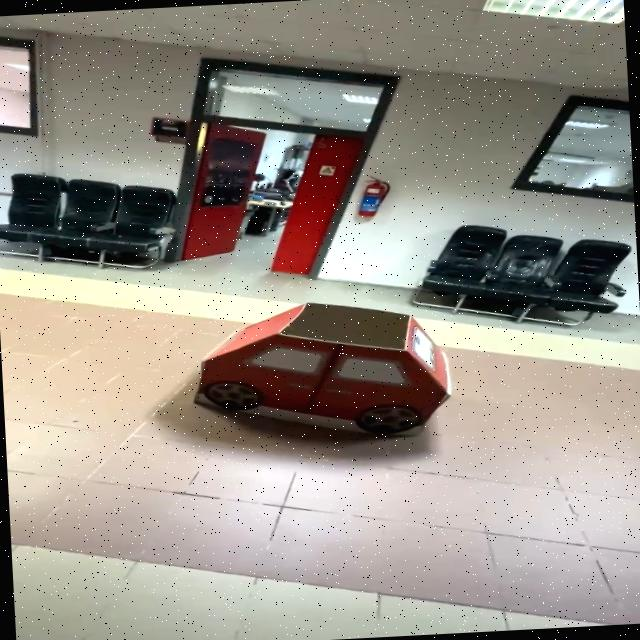red_car: (174, 286, 481, 454)
